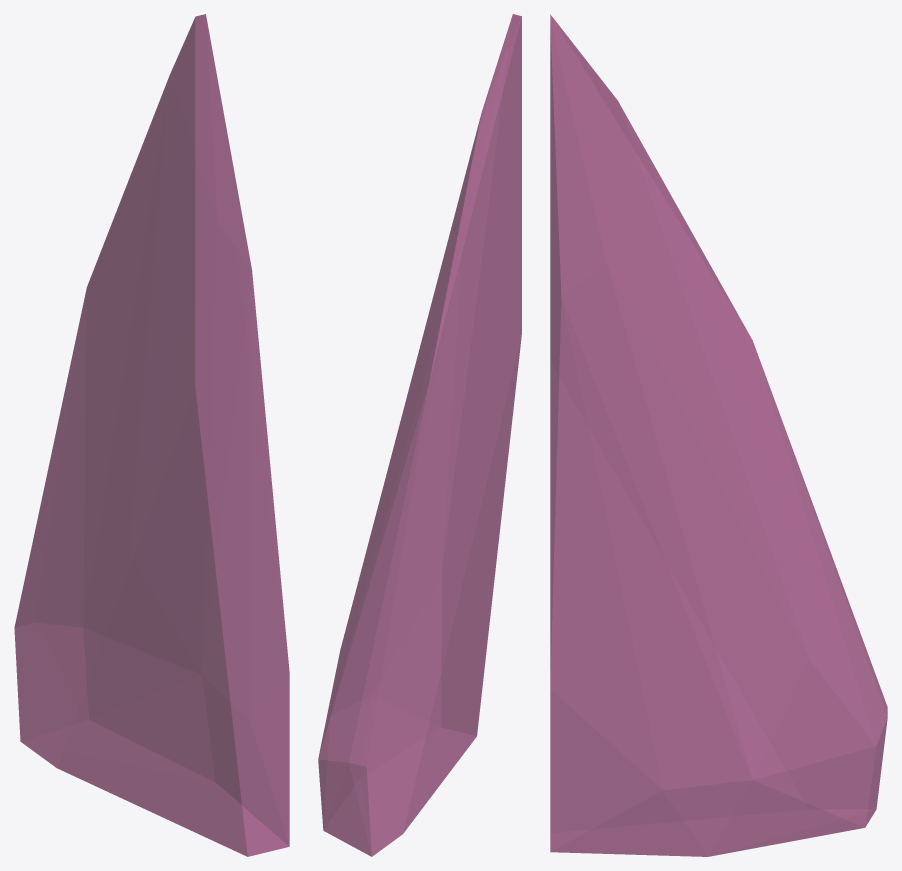
3 views of the same model, side by side, from view 1: azimuth 30°, elevation 25°; view 2: azimuth 150°, elevation 25°; view 3: azimuth 270°, elevation 25° (orthographic). The views are drawn at different scales.
Visible parts, largest first — view 1: Shape_IndexedFaceSet.007_Shape_IndexedFaceSet.15212; view 2: Shape_IndexedFaceSet.007_Shape_IndexedFaceSet.15212; view 3: Shape_IndexedFaceSet.007_Shape_IndexedFaceSet.15212.
Part boxes in pixels (x1,y1,x2,y2): Shape_IndexedFaceSet.007_Shape_IndexedFaceSet.15212: [14, 14, 289, 856]; Shape_IndexedFaceSet.007_Shape_IndexedFaceSet.15212: [318, 14, 521, 856]; Shape_IndexedFaceSet.007_Shape_IndexedFaceSet.15212: [550, 14, 887, 856].
Size of the model in its own units: 0.00479 by 0.034 by 0.0131.
